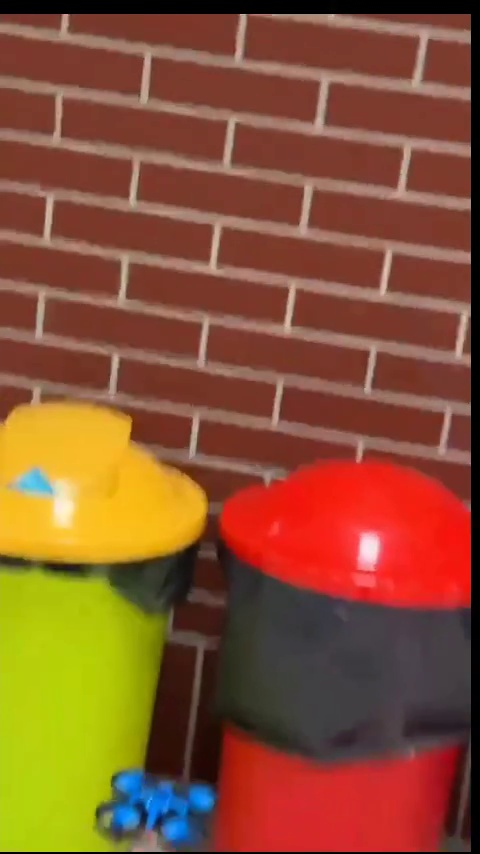drone: (96, 767, 217, 845)
